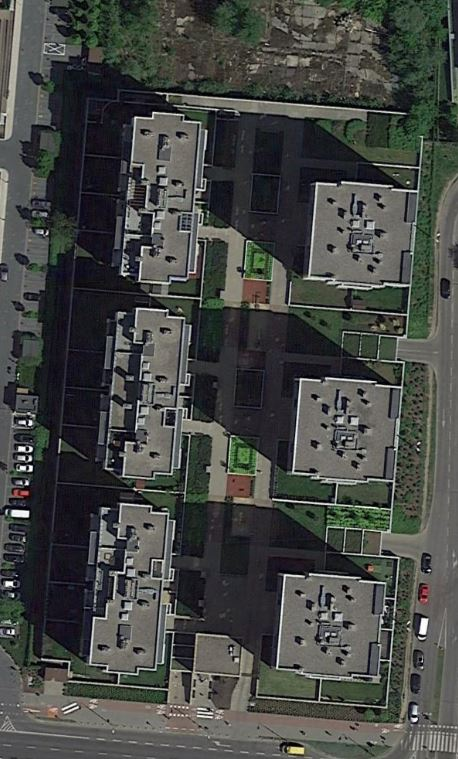block of flats: (103, 110, 212, 290), (80, 498, 186, 683), (93, 305, 197, 486), (267, 568, 396, 689), (299, 177, 421, 295), (285, 372, 403, 490)
